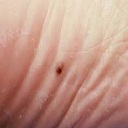Melanoma: (53, 62, 65, 76)
